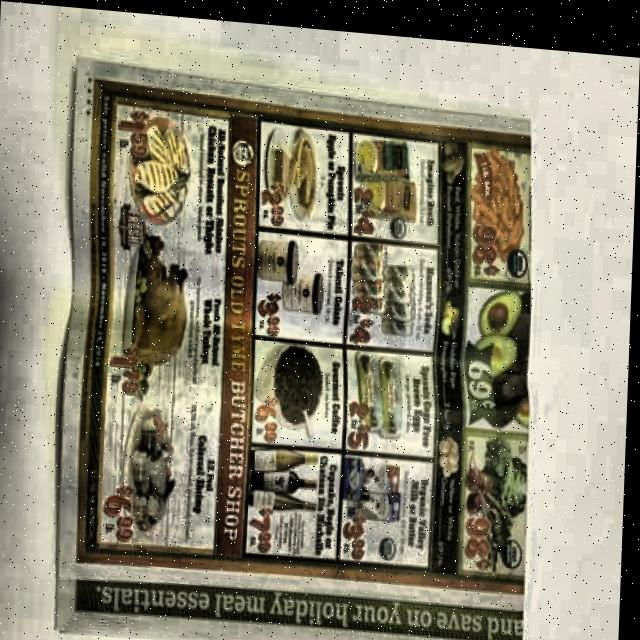paper: (51, 58, 544, 640)
